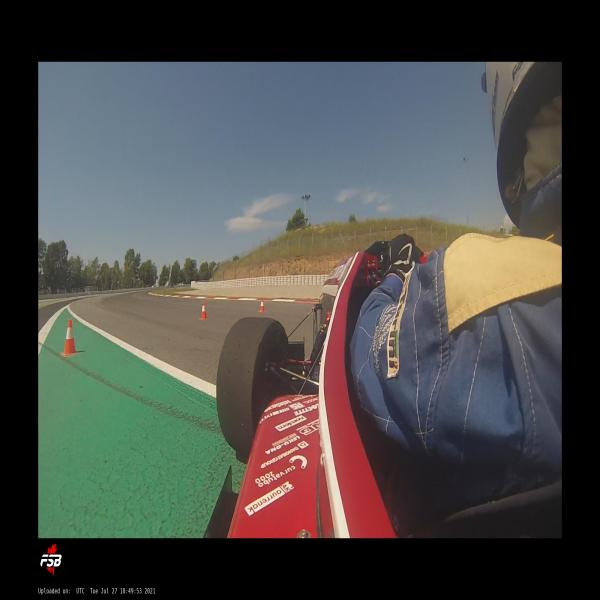orange_cone: (61, 319, 78, 356), (199, 302, 207, 320), (259, 298, 265, 313)
